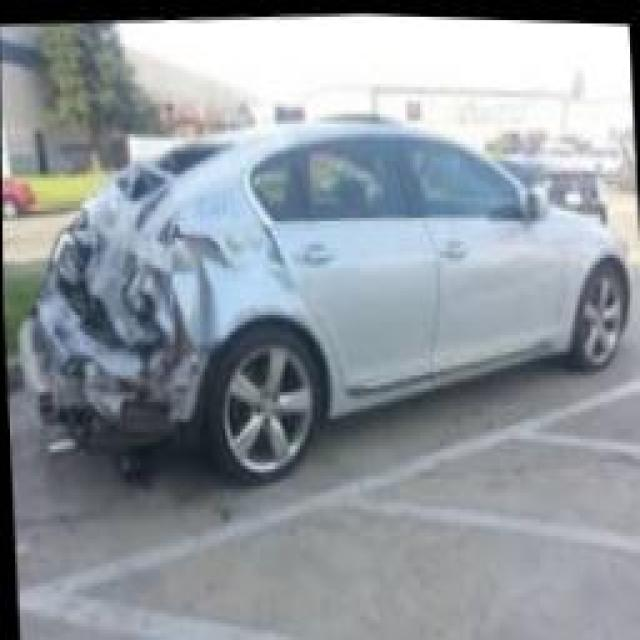Bumper: (9, 298, 182, 468)
Dickey: (26, 131, 241, 349)
Fender: (159, 173, 308, 422)
